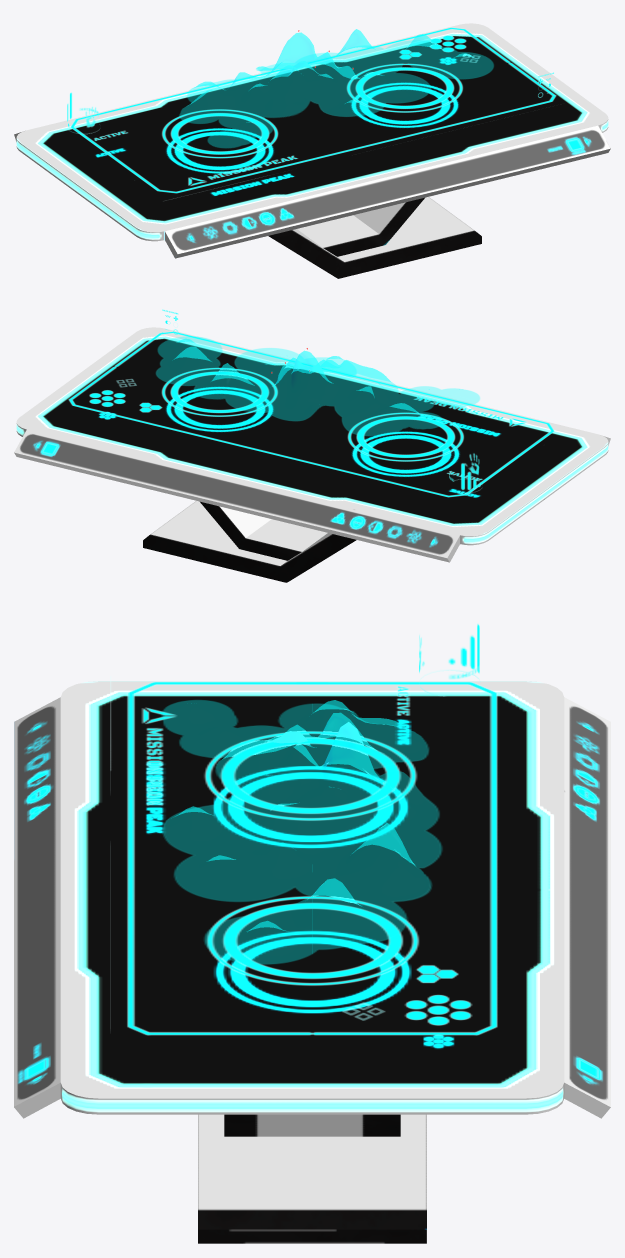
Rendered from hologram_table.glb.
3 views of the same model, one above another, from view 1: azimuth 30°, elevation 25°; view 2: azimuth 150°, elevation 25°; view 3: azimuth 270°, elevation 25° (orthographic). The views are drawn at different scales.
Parts seen in each view (by area): view 1: polySurface1, polySurface3, polySurface2, pPlane7, pPlane8, pCylinder1; view 2: polySurface1, polySurface3, polySurface2, pPlane7, pPlane8, pCylinder1; view 3: polySurface1, polySurface3, pPlane7, polySurface2, pPlane8, pCylinder1.
Boxes of the visible parts, left/top/right/bottom form: polySurface1: left=14, top=23, right=610, bottom=258; polySurface3: left=179, top=29, right=493, bottom=147; polySurface2: left=70, top=27, right=556, bottom=193; pPlane7: left=268, top=197, right=481, bottom=278; pPlane8: left=297, top=197, right=424, bottom=256; pCylinder1: left=67, top=92, right=99, bottom=134; polySurface1: left=14, top=327, right=610, bottom=562; polySurface3: left=156, top=336, right=479, bottom=435; polySurface2: left=68, top=331, right=557, bottom=497; pPlane7: left=143, top=501, right=356, bottom=582; pPlane8: left=200, top=501, right=327, bottom=560; pCylinder1: left=449, top=453, right=481, bottom=493; polySurface1: left=14, top=681, right=610, bottom=1118; polySurface3: left=162, top=700, right=441, bottom=964; pPlane7: left=198, top=1114, right=426, bottom=1243; polySurface2: left=110, top=676, right=497, bottom=1035; pPlane8: left=224, top=1114, right=400, bottom=1136; pCylinder1: left=419, top=624, right=479, bottom=696.
Bounding box in the file's own units: 0.1555 × 0.0695 × 0.094.
1 material, 1 textured.
